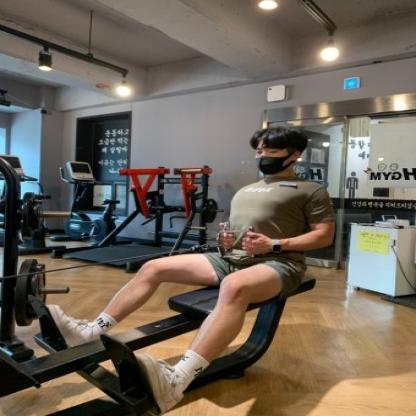Seated Cable Rows: (0, 98, 336, 415)
